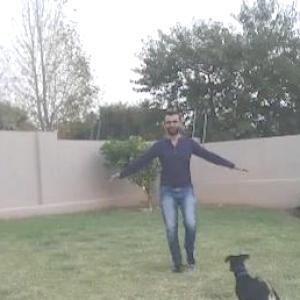land: (80, 78, 250, 299)
